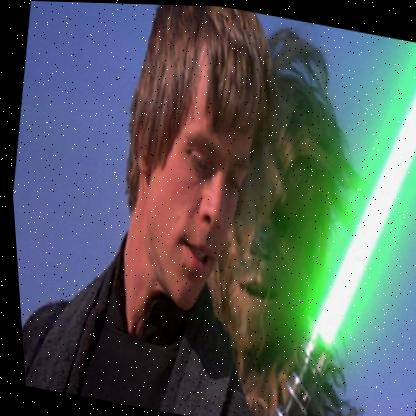lightsaber: (237, 19, 416, 416)
person: (0, 0, 323, 416)
